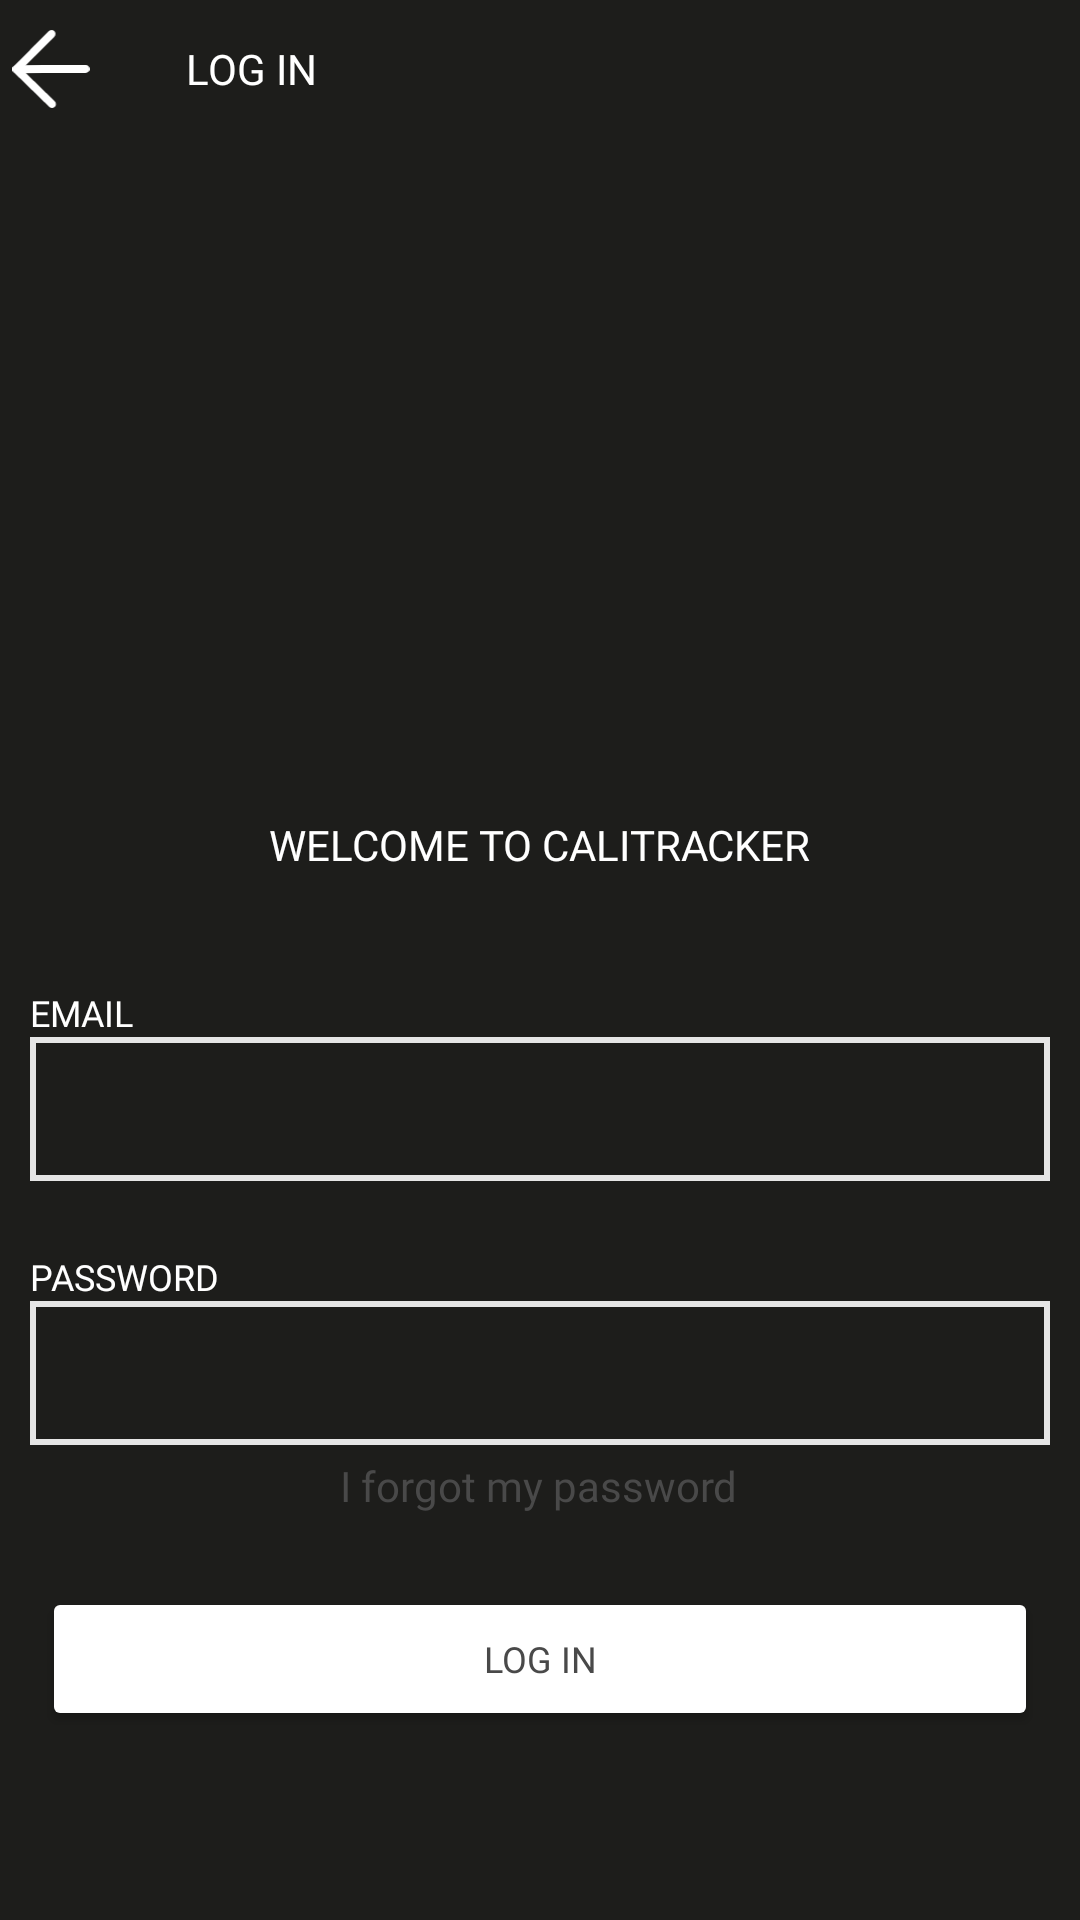

Screen size 1080px x 1920px. Icon name, then its box in pixels as box=[x1, y1, x2, y2]:
go back arrow: box=[12, 30, 90, 108]
